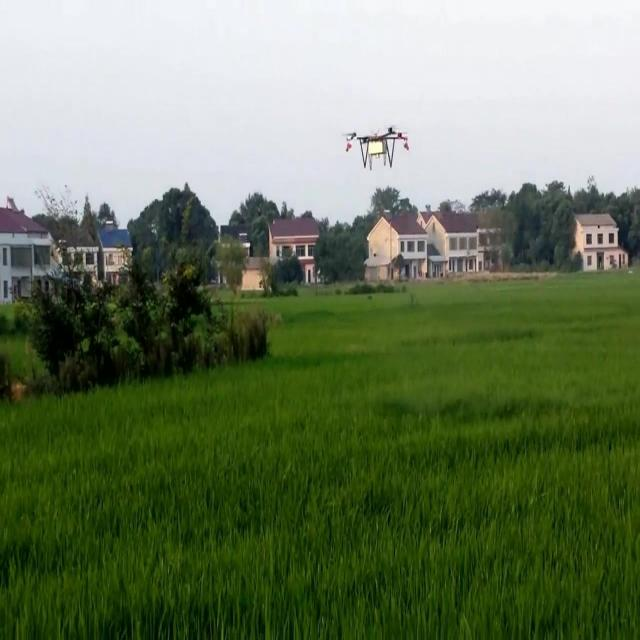UAV: (342, 125, 409, 172)
